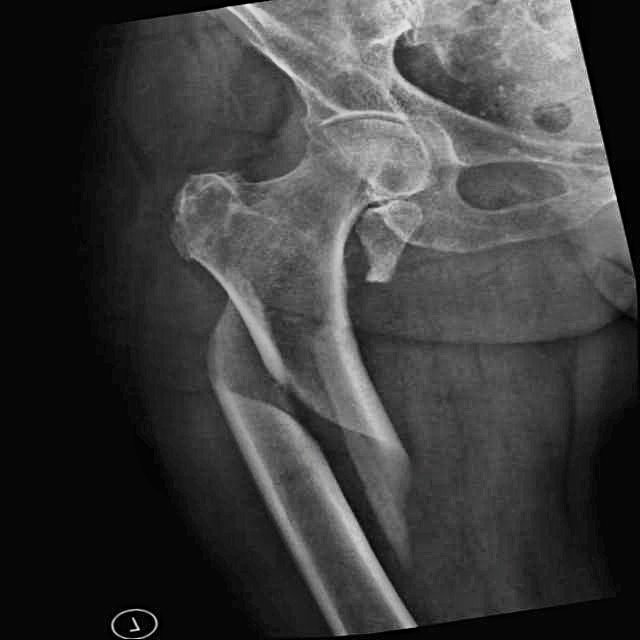Spiral: (135, 288, 427, 565)
